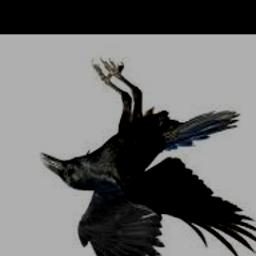Crow: (41, 61, 256, 256)
